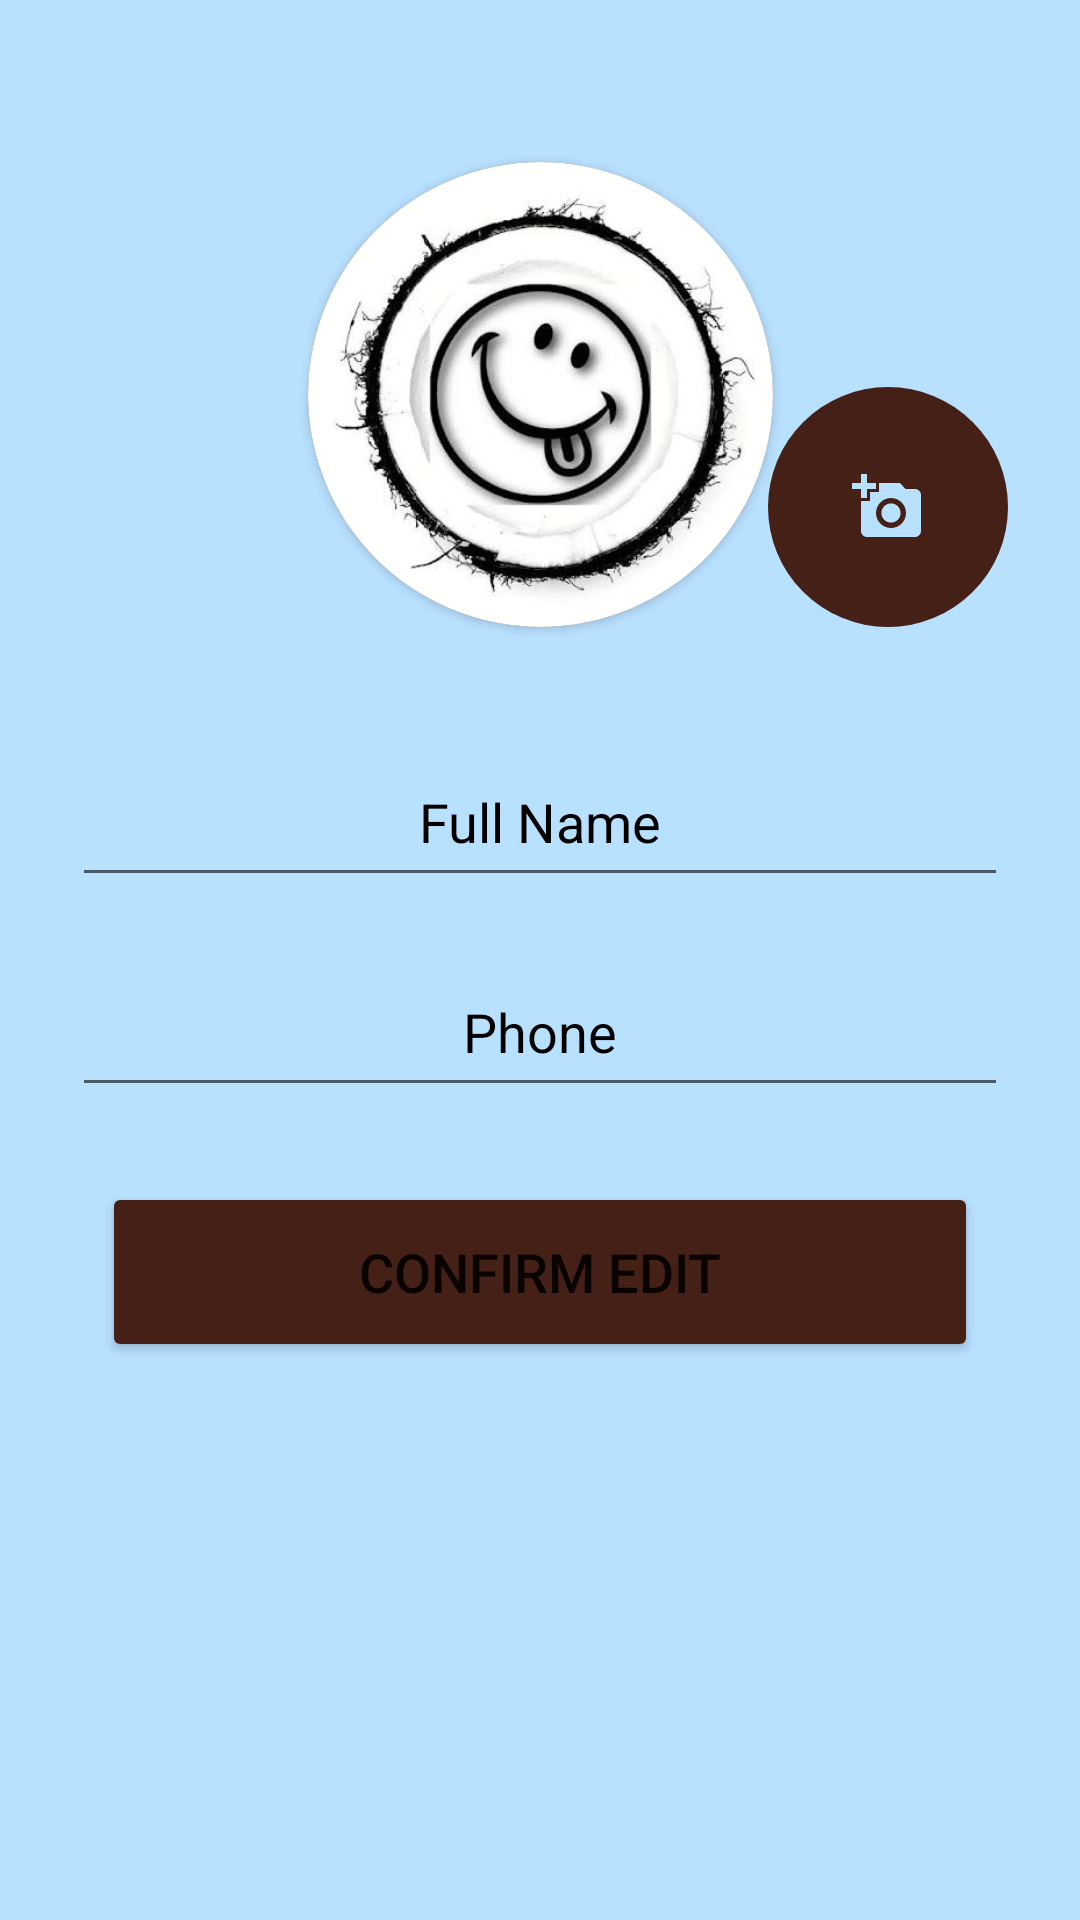

Locate icon controls on the screen. Image size 1080 x 1920, boxes as (x1, y1, x2, y2).
add photo: (768, 387, 1008, 627)
